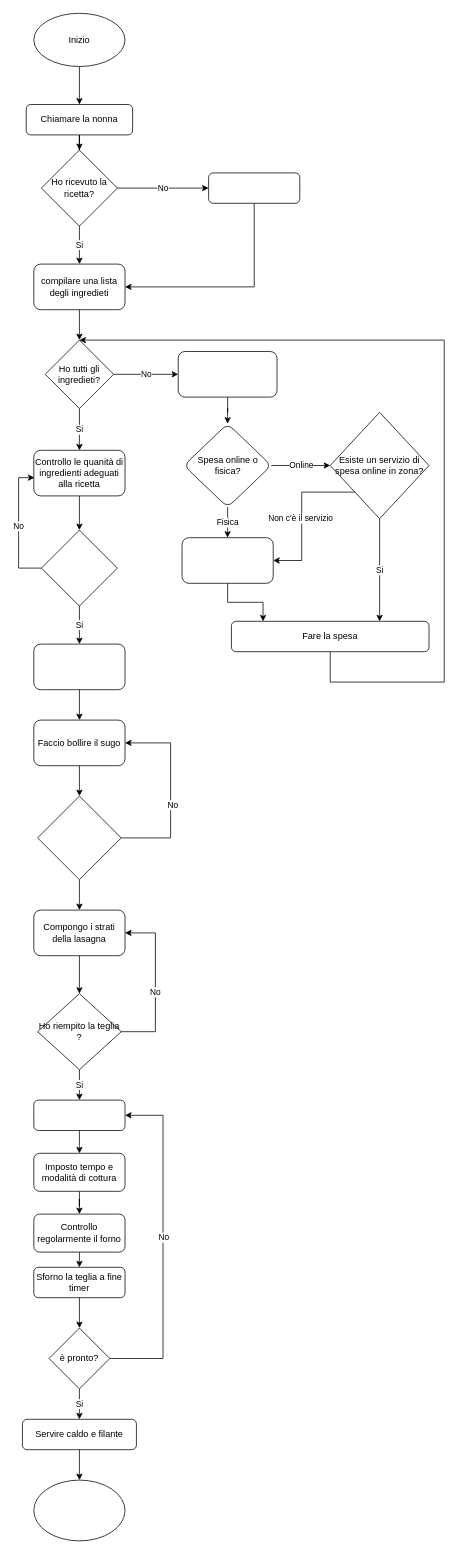
Some shapes in this 464 by 1554 pixel diagram are drawn without their labels. The centre of each missing label's shape, as x and y in pixels:
"Cercare un negozio fisico in zona" goes at (227,560).
"Cerco la ricetta Online" goes at (254,187).
"Creare una lista della spesa con gli ingredienti mancanti" goes at (227,374).
"Fine" goes at (79,1510).
"Inforno la teglia" goes at (79,1114).
"Inizio dalla preparazione del sugo alla bolognese" goes at (79,666).
"Le quantità sono sufficienti?" goes at (79,567).
"è trascorso abbastanza tempo di cottura?" goes at (79,837).
